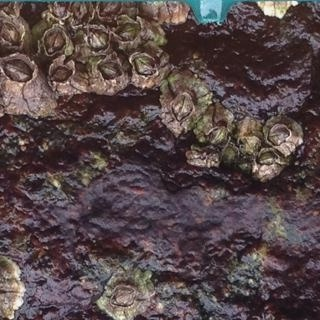Barnacle: (3, 56, 34, 84), (43, 25, 68, 56), (116, 18, 143, 44), (171, 94, 196, 122), (87, 25, 111, 53), (0, 16, 21, 46), (132, 54, 159, 77), (70, 1, 94, 25), (110, 288, 138, 308), (267, 125, 291, 147), (98, 61, 121, 82), (50, 65, 74, 84), (239, 136, 261, 156), (256, 149, 279, 166), (209, 129, 230, 146)
